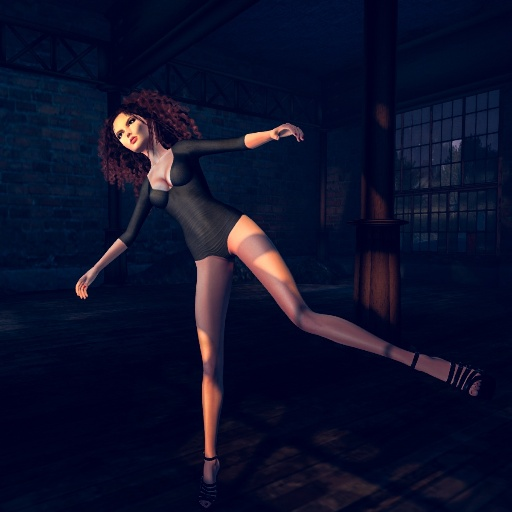hand: (71, 267, 98, 299), (268, 121, 304, 144)
